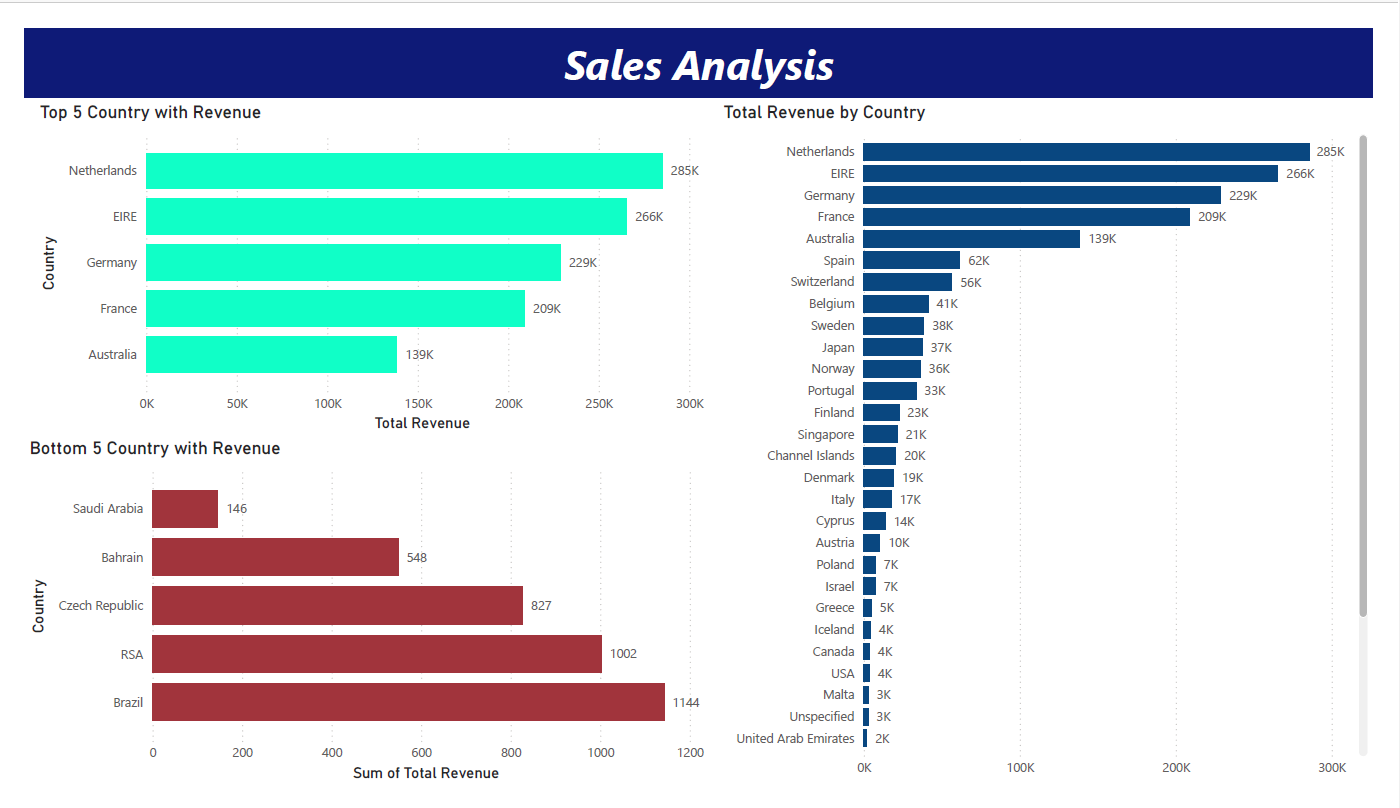

The page's visual inventory and layout, read from the dashboard file:
{"tool":"powerbi","page":{"name":"Sales Analysis","canvas":[1280,720],"ordinal":1},"visuals":[{"type":"barChart","title":"Top 5 Country with Revenue","fields":{"Category":["Top_5_Country by Sales.Country"],"Y":["Sum(Top_5_Country by Sales.Total Revenue)"]},"box":[10,68.8,648.8,318.8],"z":0},{"type":"barChart","title":"Bottom 5 Country with Revenue","fields":{"Category":["Bottom_5_Country by Sales.Country"],"Y":["Sum(Bottom_5_Country by Sales.Total Revenue)"]},"box":[0,387.5,658.8,332.5],"z":1000},{"type":"barChart","title":"Total Revenue by Country","fields":{"Category":["Table_new.Country"],"Y":["Sum(Table_new.Total Revenue)"]},"box":[658.8,68.8,621.2,651.2],"z":2000},{"type":"shape","box":[0,0,1280,66.2],"z":3000}]}

Visuals, with their boxes in screenshot pixels (x1, y1, x2, y2), scaled from the page's 1280x720 canvas onto the 1400x808 screenshot:
"Top 5 Country with Revenue" barChart: rect(11, 77, 721, 435)
"Bottom 5 Country with Revenue" barChart: rect(0, 435, 721, 807)
"Total Revenue by Country" barChart: rect(721, 77, 1399, 807)
shape: rect(0, 0, 1399, 74)
